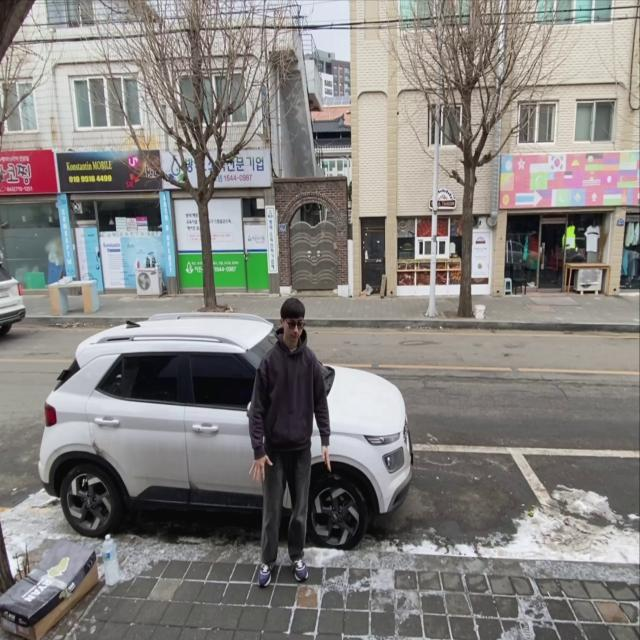bare_hand: (247, 453, 274, 485), (321, 444, 336, 476)
